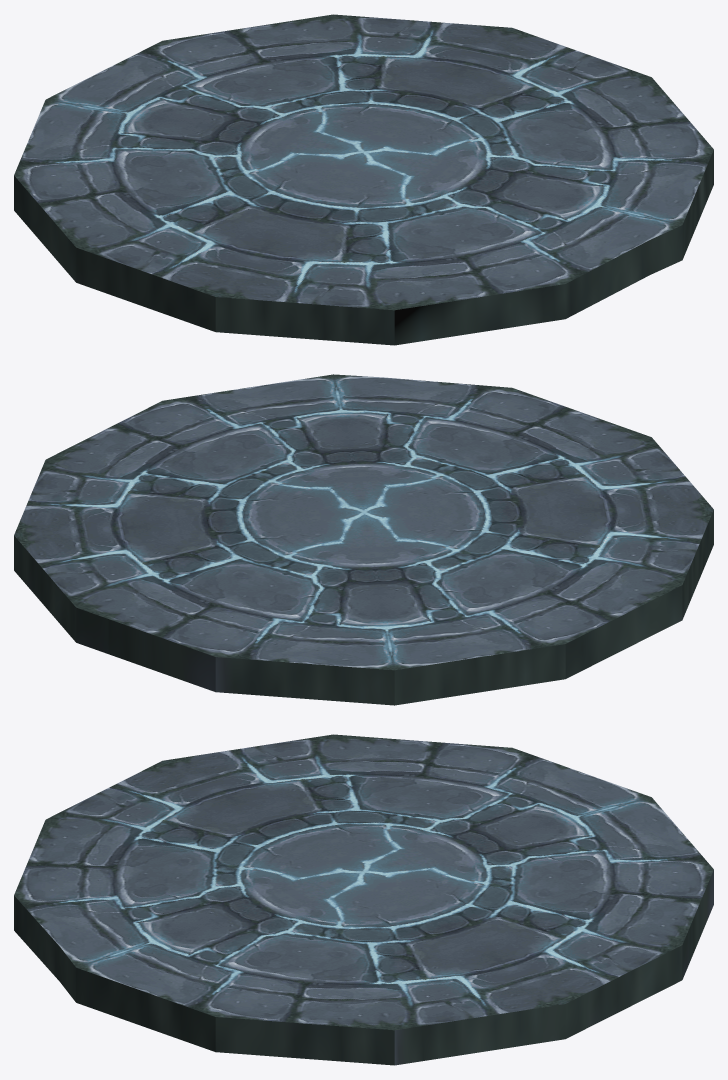
The model's file is cs_lobbynew02_wujian_zhiji_yuantai.FBX.
3 renders of one model, top to bottom at view 1: azimuth 30°, elevation 25°; view 2: azimuth 150°, elevation 25°; view 3: azimuth 270°, elevation 25°, orthographic.
Visible parts, largest first — view 1: cs_lobbynew02_wujian_zhiji_yuantai; view 2: cs_lobbynew02_wujian_zhiji_yuantai; view 3: cs_lobbynew02_wujian_zhiji_yuantai.
Part boxes in pixels (left/top/right/bottom): cs_lobbynew02_wujian_zhiji_yuantai: left=14, top=14, right=713, bottom=345; cs_lobbynew02_wujian_zhiji_yuantai: left=14, top=374, right=713, bottom=705; cs_lobbynew02_wujian_zhiji_yuantai: left=14, top=734, right=713, bottom=1065.
Bounding box in the file's own units: 763 × 763 × 54.84.
